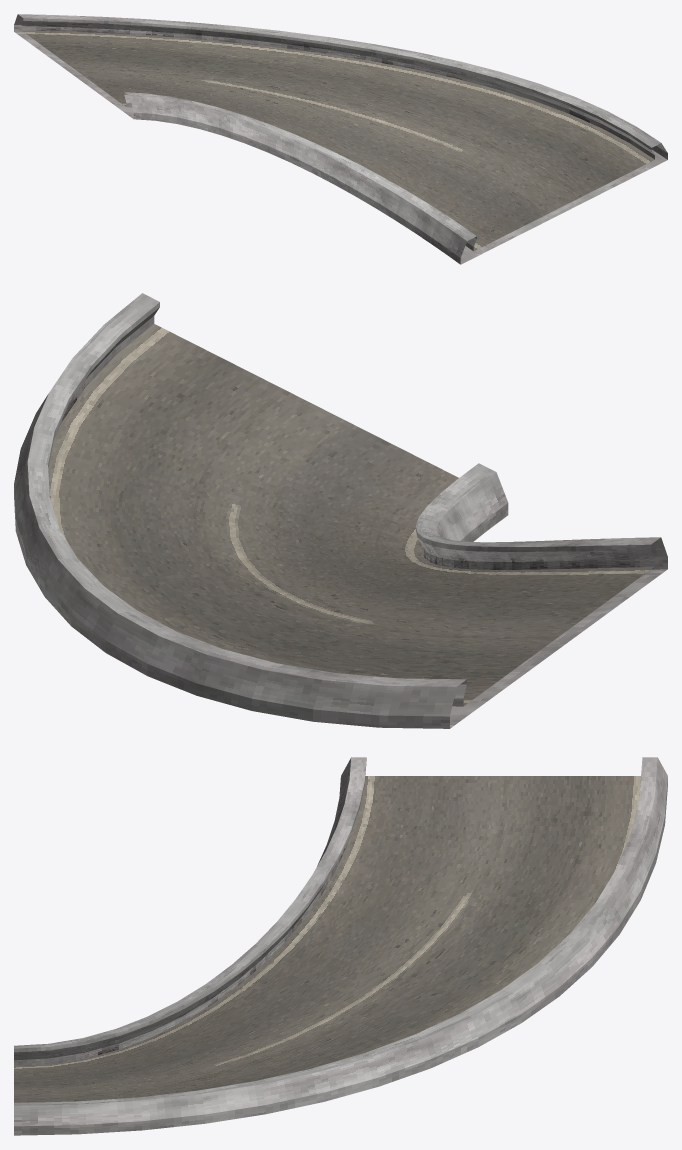
File: turn-left2x2.glb
The picture shows the model from 3 angles, top to bottom: view 1: azimuth 30°, elevation 25°; view 2: azimuth 150°, elevation 25°; view 3: azimuth 270°, elevation 25°; orthographic projection. The views are drawn at different scales.
Parts seen in each view (by area): view 1: road-Turn-HalfBankedLeft-BiSlopeUp-Up2-Left-Size2; view 2: road-Turn-HalfBankedLeft-BiSlopeUp-Up2-Left-Size2; view 3: road-Turn-HalfBankedLeft-BiSlopeUp-Up2-Left-Size2.
Part boxes in pixels (box(x1,y1,x2,y2)): road-Turn-HalfBankedLeft-BiSlopeUp-Up2-Left-Size2: box(14, 14, 667, 264); road-Turn-HalfBankedLeft-BiSlopeUp-Up2-Left-Size2: box(14, 293, 667, 728); road-Turn-HalfBankedLeft-BiSlopeUp-Up2-Left-Size2: box(14, 757, 667, 1135).
Bounding box in the file's own units: 2 × 0.5937 × 2.
2 materials, 2 textured.
